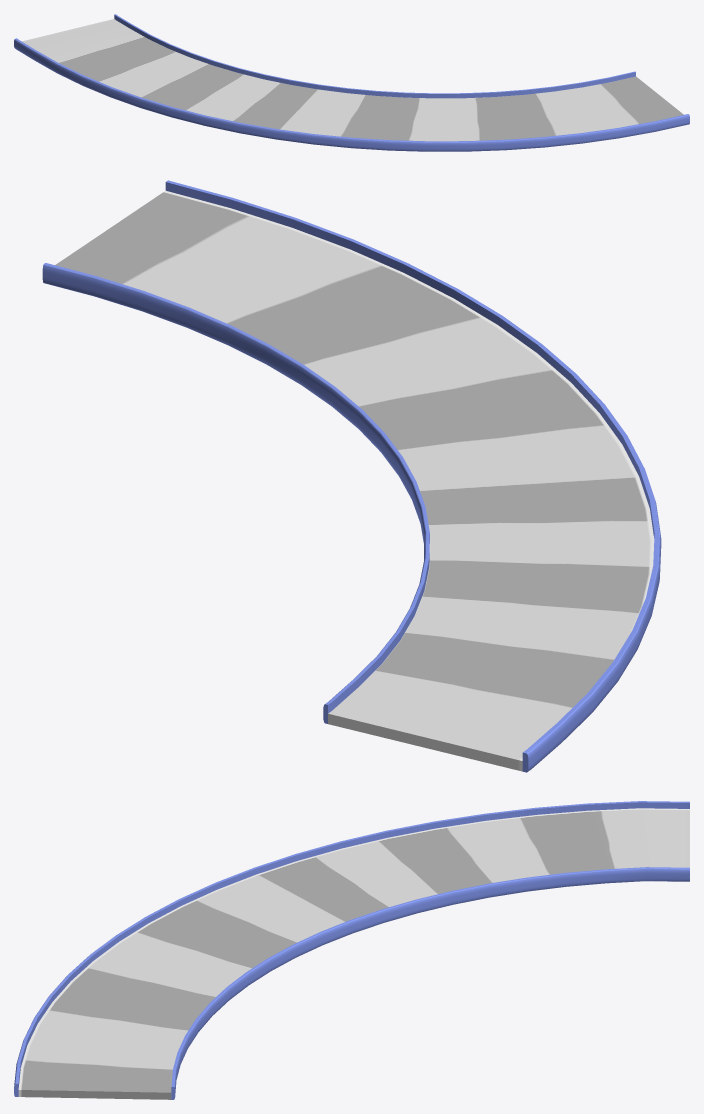
File: Road_Left.fbx
3 views of the same model, one above another, from view 1: azimuth 30°, elevation 25°; view 2: azimuth 150°, elevation 25°; view 3: azimuth 270°, elevation 25° (orthographic). The views are drawn at different scales.
Parts seen in each view (by area): view 1: Road, Road_Side; view 2: Road, Road_Side; view 3: Road, Road_Side.
Boxes of the visible parts, x1=… form: Road: x1=22, y1=19, x2=683, y2=141; Road_Side: x1=14, y1=14, x2=689, y2=151; Road: x1=55, y1=190, x2=654, y2=771; Road_Side: x1=42, y1=180, x2=661, y2=772; Road: x1=18, y1=808, x2=689, y2=1099; Road_Side: x1=14, y1=801, x2=689, y2=1099.
Size of the model in its own units: 1724 by 40.74 by 1716.
